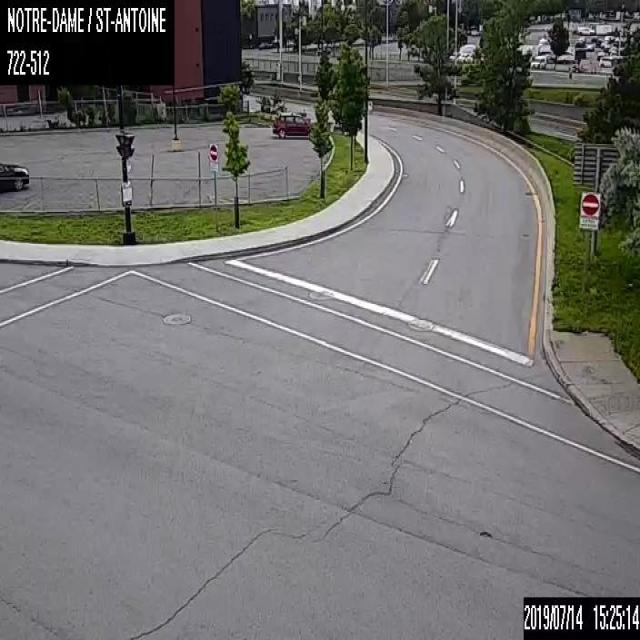vehicle: (272, 111, 315, 138), (0, 160, 28, 192)
